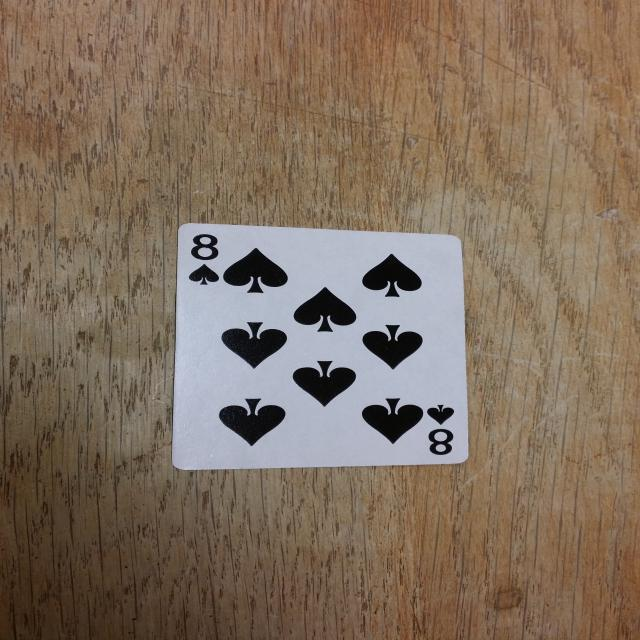8s: (182, 231, 228, 290), (420, 402, 462, 459)
